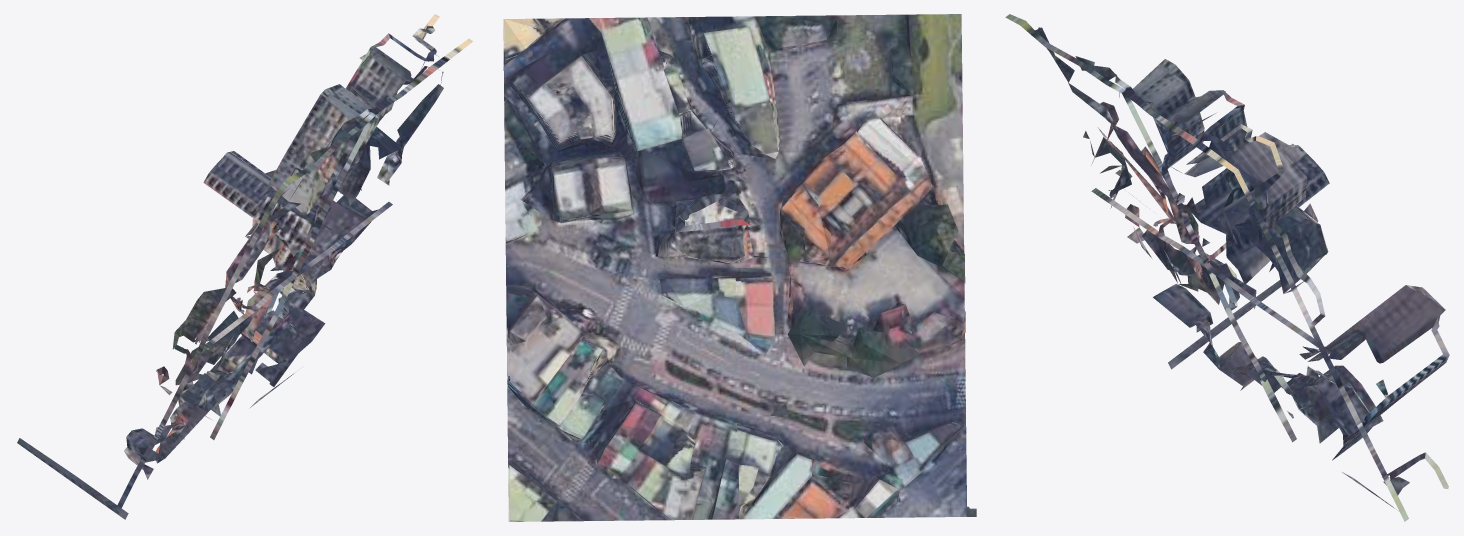
3 views of the same model, side by side, from view 1: azimuth 30°, elevation 25°; view 2: azimuth 150°, elevation 25°; view 3: azimuth 270°, elevation 25° (orthographic). The views are drawn at different scales.
Size of the model in its own units: 174 by 148 by 142.
1 material, 1 textured.
